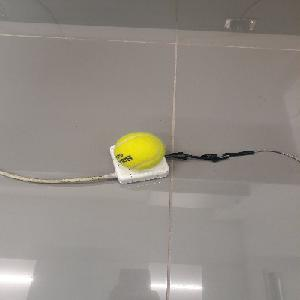Ball: (113, 131, 166, 170)
